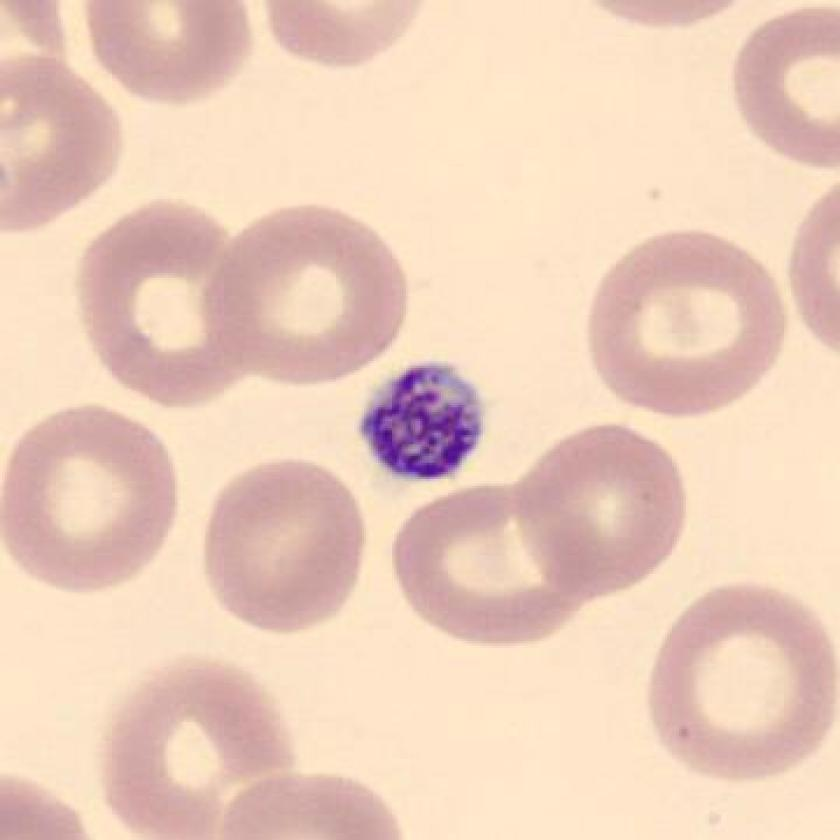platelets: (349, 350, 496, 501)
